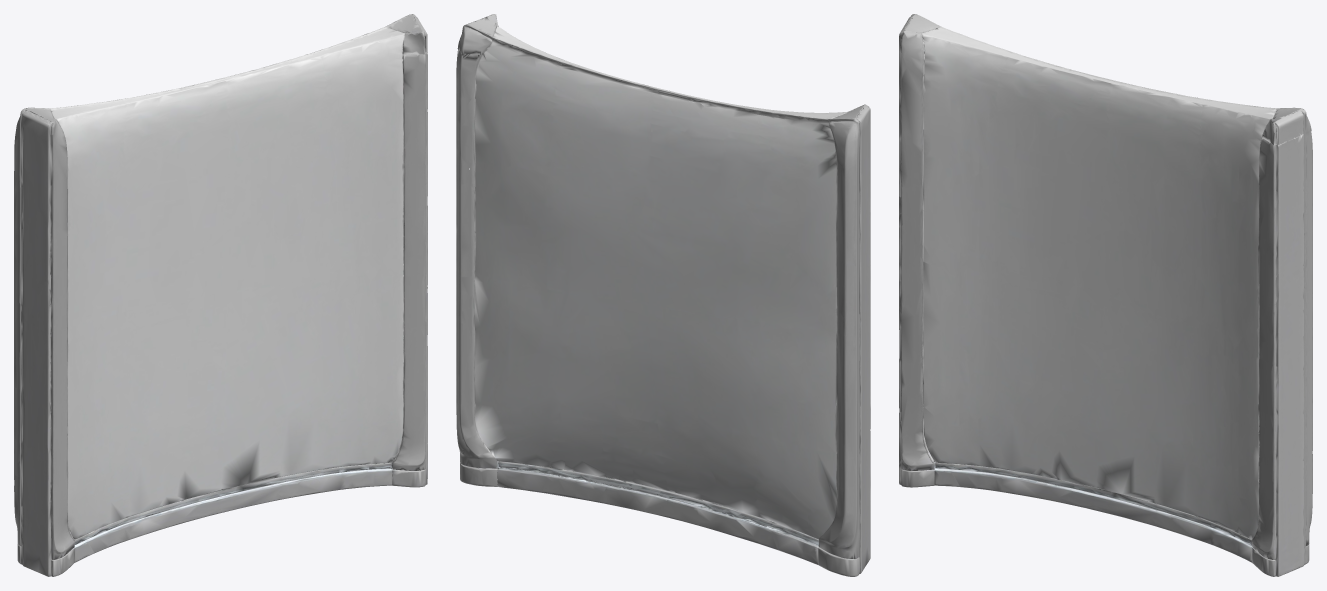
File: curved-wall-bay.glb
3 views of the same model, side by side, from view 1: azimuth 30°, elevation 25°; view 2: azimuth 150°, elevation 25°; view 3: azimuth 330°, elevation 25° (orthographic).
Visible parts, largest first — view 1: tripo_node_f451e541-5738-4e64-ad8c-6dc5152045ed; view 2: tripo_node_f451e541-5738-4e64-ad8c-6dc5152045ed; view 3: tripo_node_f451e541-5738-4e64-ad8c-6dc5152045ed.
Boxes of the visible parts, bbox=[...] form: tripo_node_f451e541-5738-4e64-ad8c-6dc5152045ed: bbox=[14, 14, 427, 576]; tripo_node_f451e541-5738-4e64-ad8c-6dc5152045ed: bbox=[456, 14, 870, 576]; tripo_node_f451e541-5738-4e64-ad8c-6dc5152045ed: bbox=[899, 14, 1312, 576].
Bounding box in the file's own units: 0.9 × 0.9805 × 0.1183.
1 material, 1 textured.
